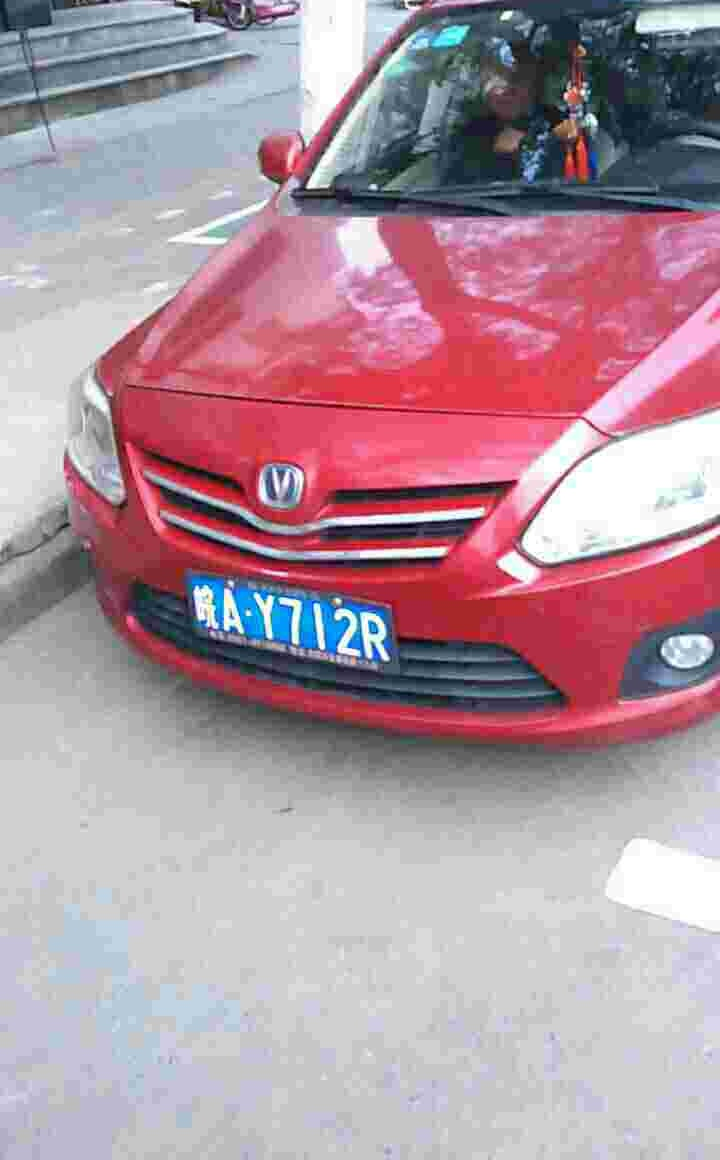license_plate: (193, 566, 387, 666)
